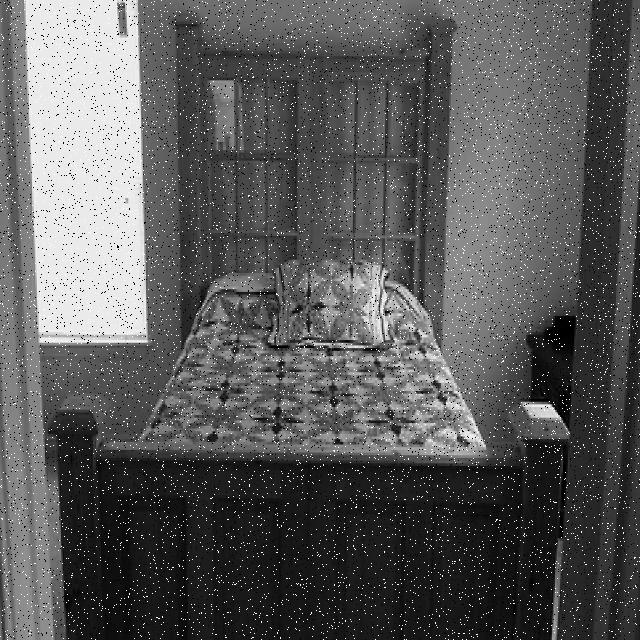bed: (148, 16, 470, 625)
